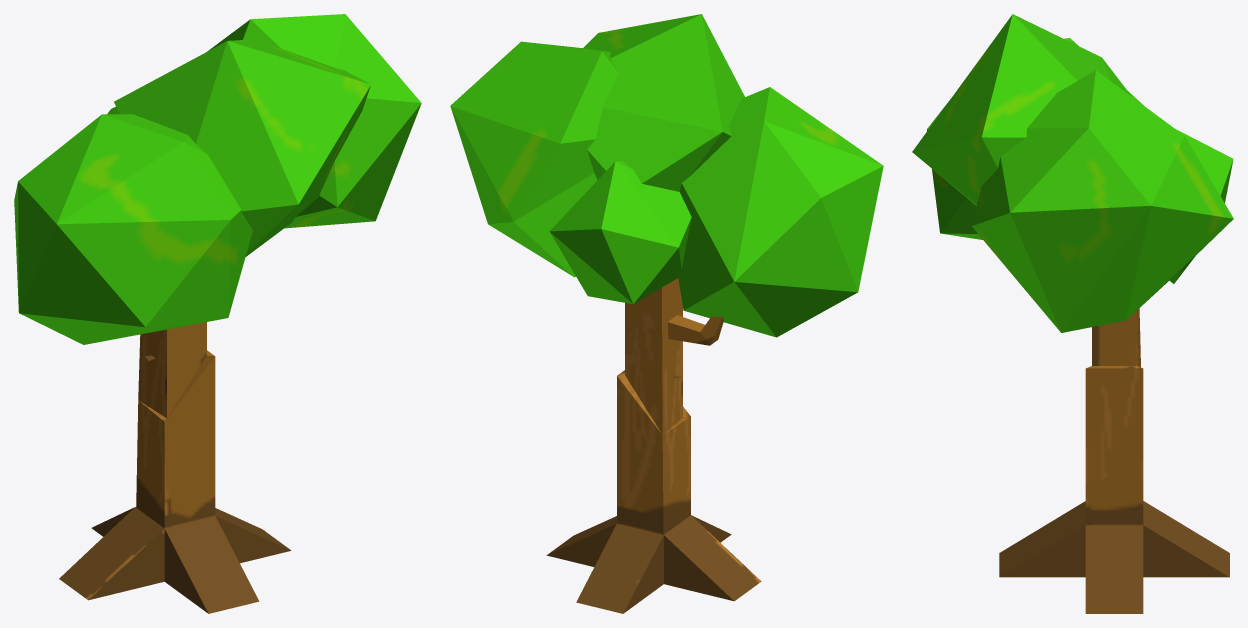
The model's file is tree_chesburg_5.glb.
3 renders of one model, left to right at view 1: azimuth 30°, elevation 25°; view 2: azimuth 150°, elevation 25°; view 3: azimuth 270°, elevation 25°, orthographic. The views are drawn at different scales.
Visible parts, largest first — view 1: leaves.004; view 2: leaves.004; view 3: leaves.004.
Part boxes in pixels (<box>): leaves.004: <box>14,14,421,613</box>; leaves.004: <box>450,14,883,613</box>; leaves.004: <box>912,14,1233,613</box>.
Size of what is drawn, in the model's own units: 7.68 by 10.55 by 5.58.
1 material, 1 textured.
